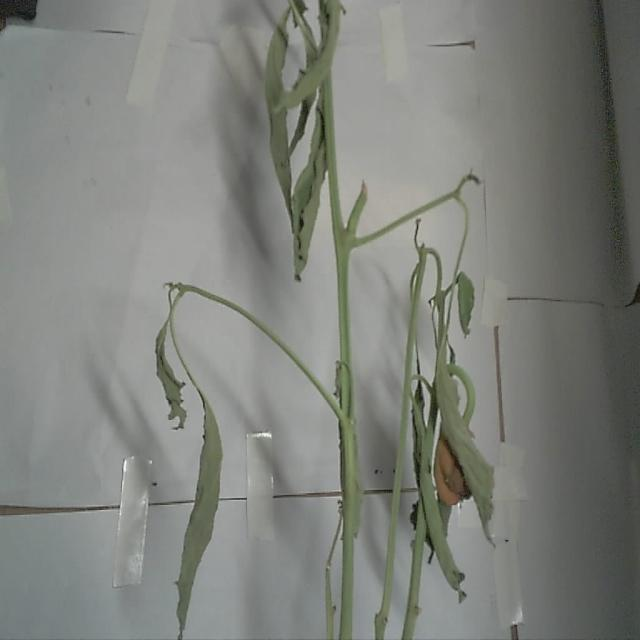Leaf: (432, 319, 497, 552), (172, 381, 222, 640), (263, 17, 296, 230), (290, 99, 326, 276), (154, 288, 188, 425)
